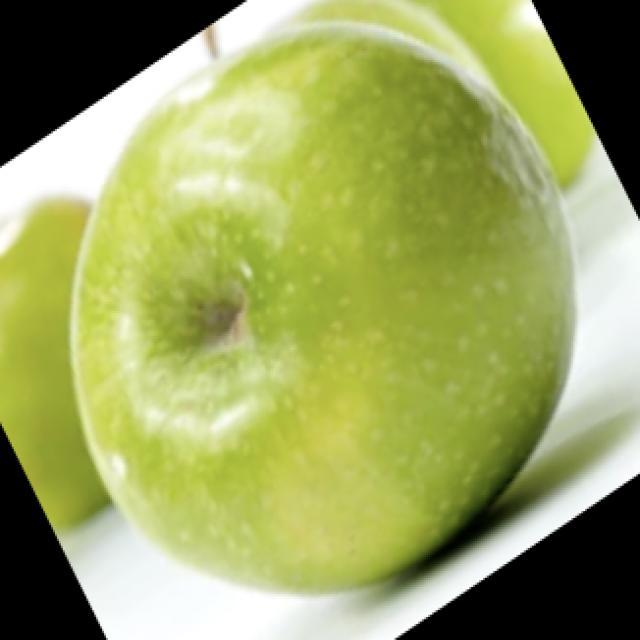Fresh Apple: (93, 33, 547, 592)
